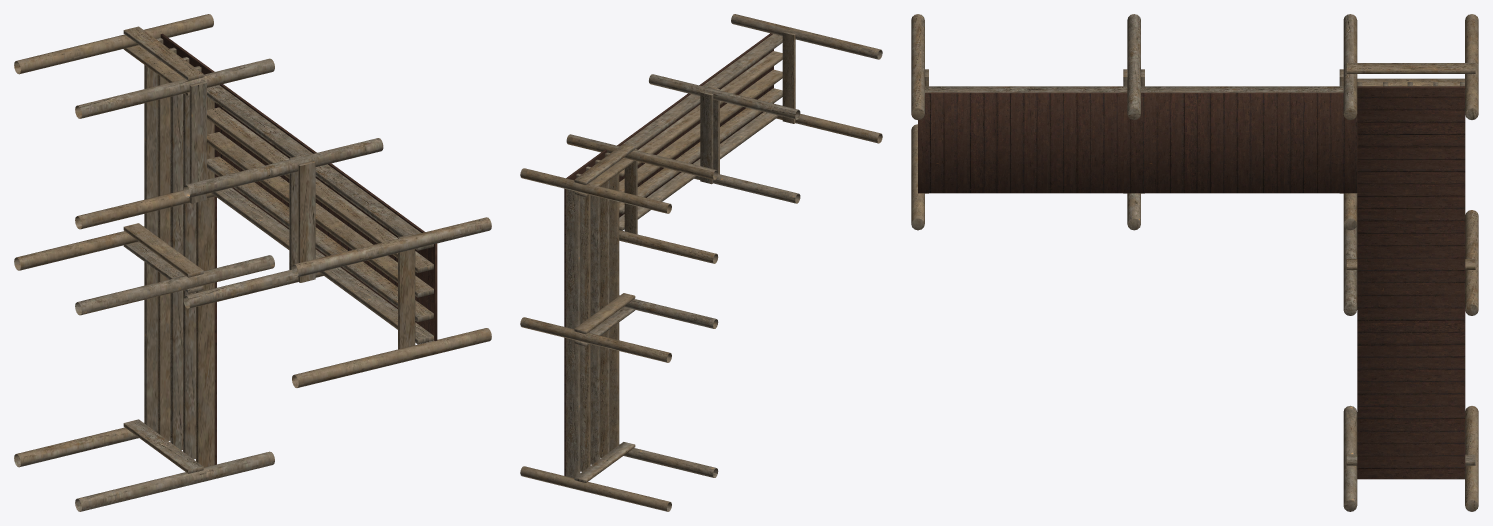
The model's file is cP_Dock01.dae.
3 renders of one model, left to right at view 1: azimuth 30°, elevation 25°; view 2: azimuth 150°, elevation 25°; view 3: azimuth 270°, elevation 25°, orthographic. The views are drawn at different scales.
Visible parts, largest first — view 1: cP_Dock01.001; view 2: cP_Dock01.001; view 3: cP_Dock01.001.
Part boxes in pixels (box(x1,y1,x2,y2)): cP_Dock01.001: box(14, 14, 491, 511); cP_Dock01.001: box(520, 14, 882, 511); cP_Dock01.001: box(911, 14, 1478, 511).
Size of the model in its own units: 4.12 by 10.5 by 8.33.
